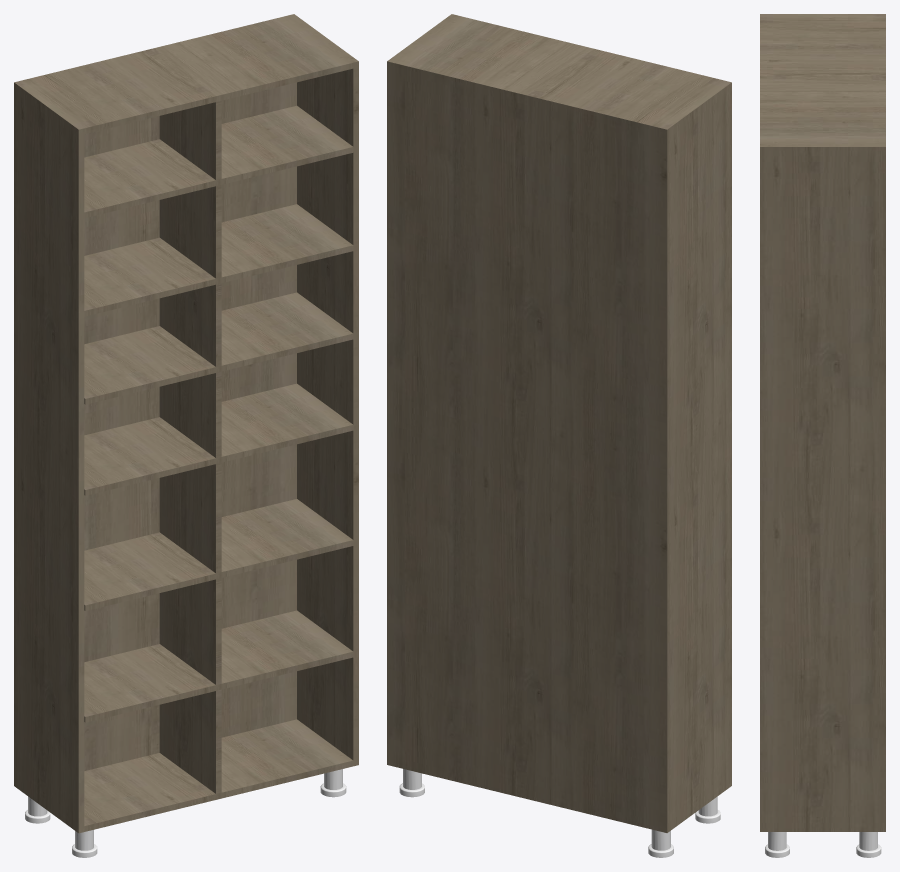
The picture shows the model from 3 angles, left to right: view 1: azimuth 30°, elevation 25°; view 2: azimuth 150°, elevation 25°; view 3: azimuth 270°, elevation 25°; orthographic projection. The views are drawn at different scales.
Parts seen in each view (by area): view 1: Box001, Box022, Box016, Box020, Box019, Box018, Box021, Box017; view 2: Box001; view 3: Box001, Cylinder004, Cylinder005.
Boxes of the visible parts, bbox=[...] form: Box001: bbox=[14, 14, 358, 833]; Box022: bbox=[159, 101, 221, 793]; Box016: bbox=[84, 383, 354, 495]; Box020: bbox=[84, 499, 354, 611]; Box019: bbox=[84, 204, 353, 316]; Box018: bbox=[84, 105, 353, 218]; Box021: bbox=[84, 610, 353, 722]; Box017: bbox=[84, 292, 353, 404]; Box001: bbox=[387, 14, 731, 832]; Box001: bbox=[760, 14, 885, 831]; Cylinder004: bbox=[856, 832, 881, 857]; Cylinder005: bbox=[765, 832, 789, 857].
Bounding box in the file's own units: 1 × 2.5 × 0.4001.
Materials: 2 (1 with a texture image).
